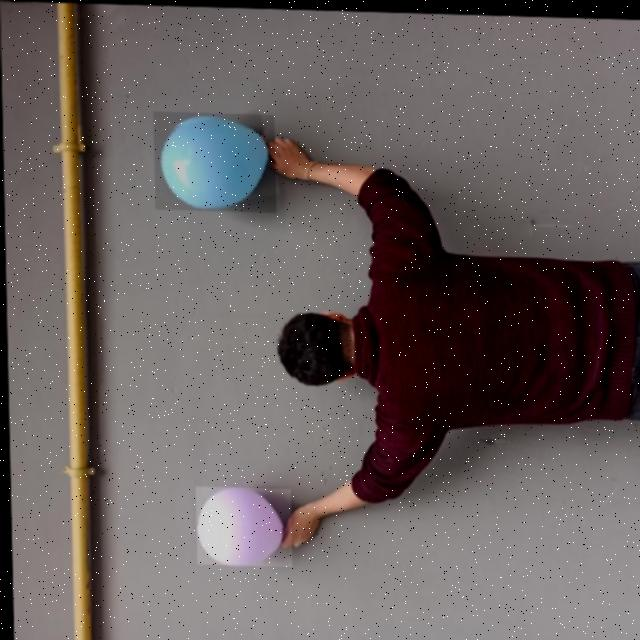balloon: (153, 110, 276, 210), (193, 484, 290, 565)
